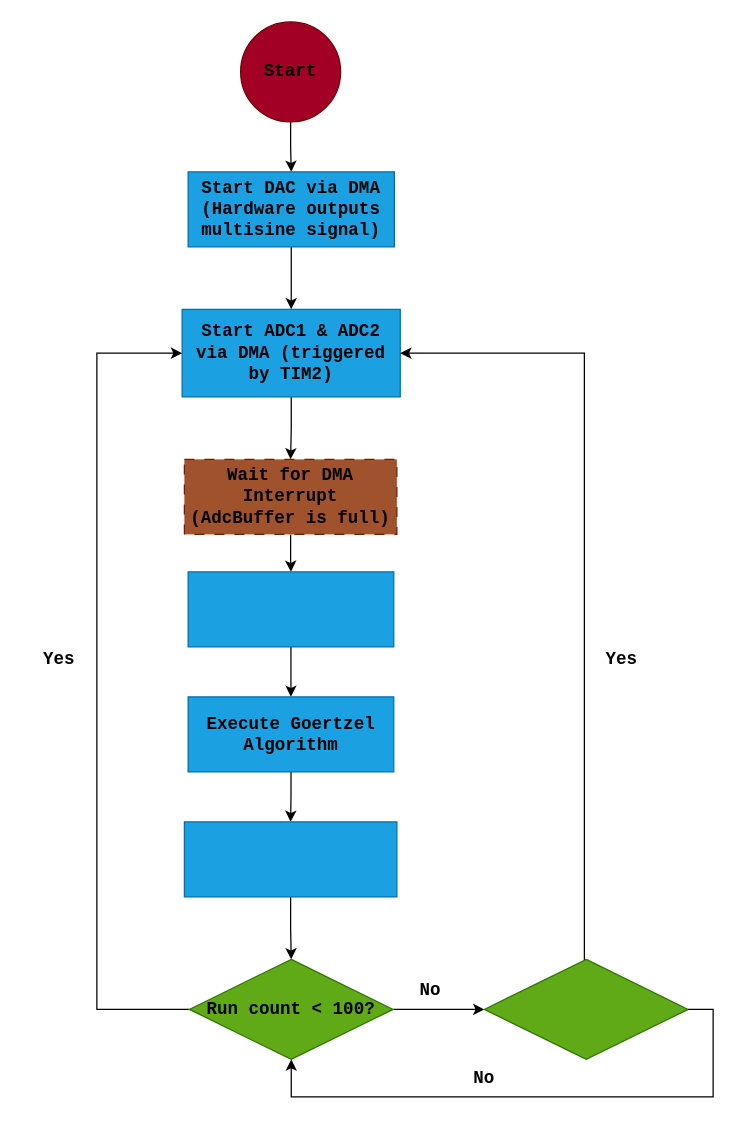
Image size: 745x1129. Some labels were removed from this diagram. The centre of each missing label's shape, as x and y in pixels:
"Halt TIM2 (Pause acquisition)" belongs at point 290,609.
"Transmit Results (Via UART to PC)" belongs at point 290,859.
"User button pressed ?" belongs at point 585,1008.
